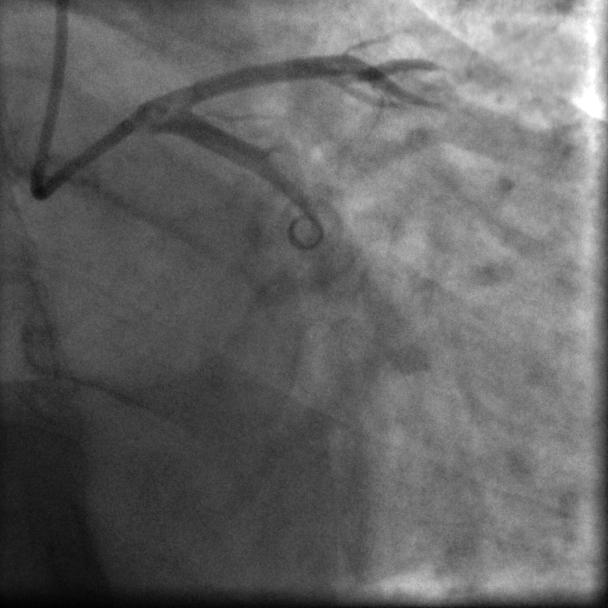Stenosis: (259, 139, 296, 157)
